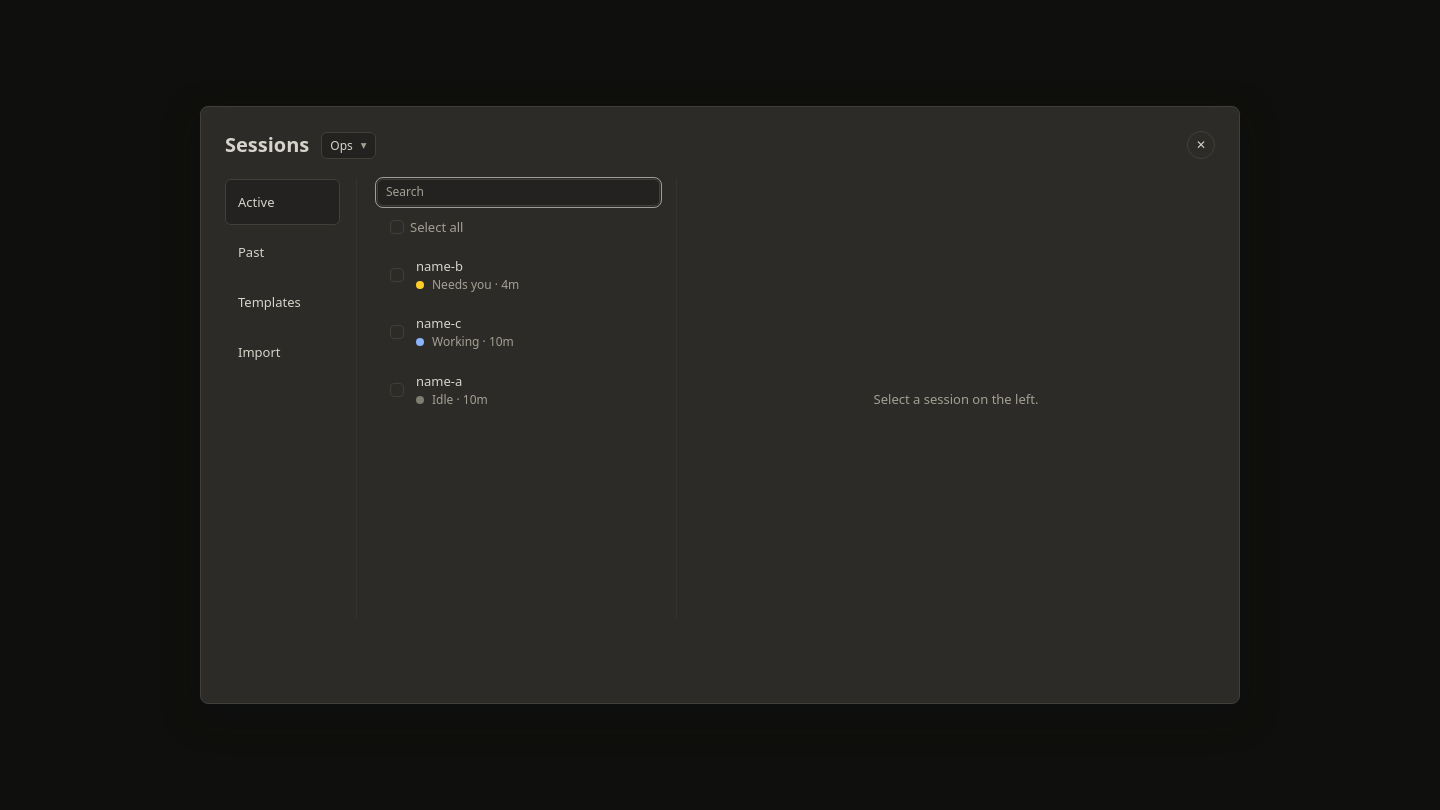
Sessions → Active — details › the row opens read-only details: Name, Folder, Workspace, Tags, Status, Launched
The image size is (1440, 810).
What coordinates should you click on to do the following:
click the button "name-b Needs you · 4m"
I would click on:
 (532, 275)
Its box is [404, 249, 659, 300].
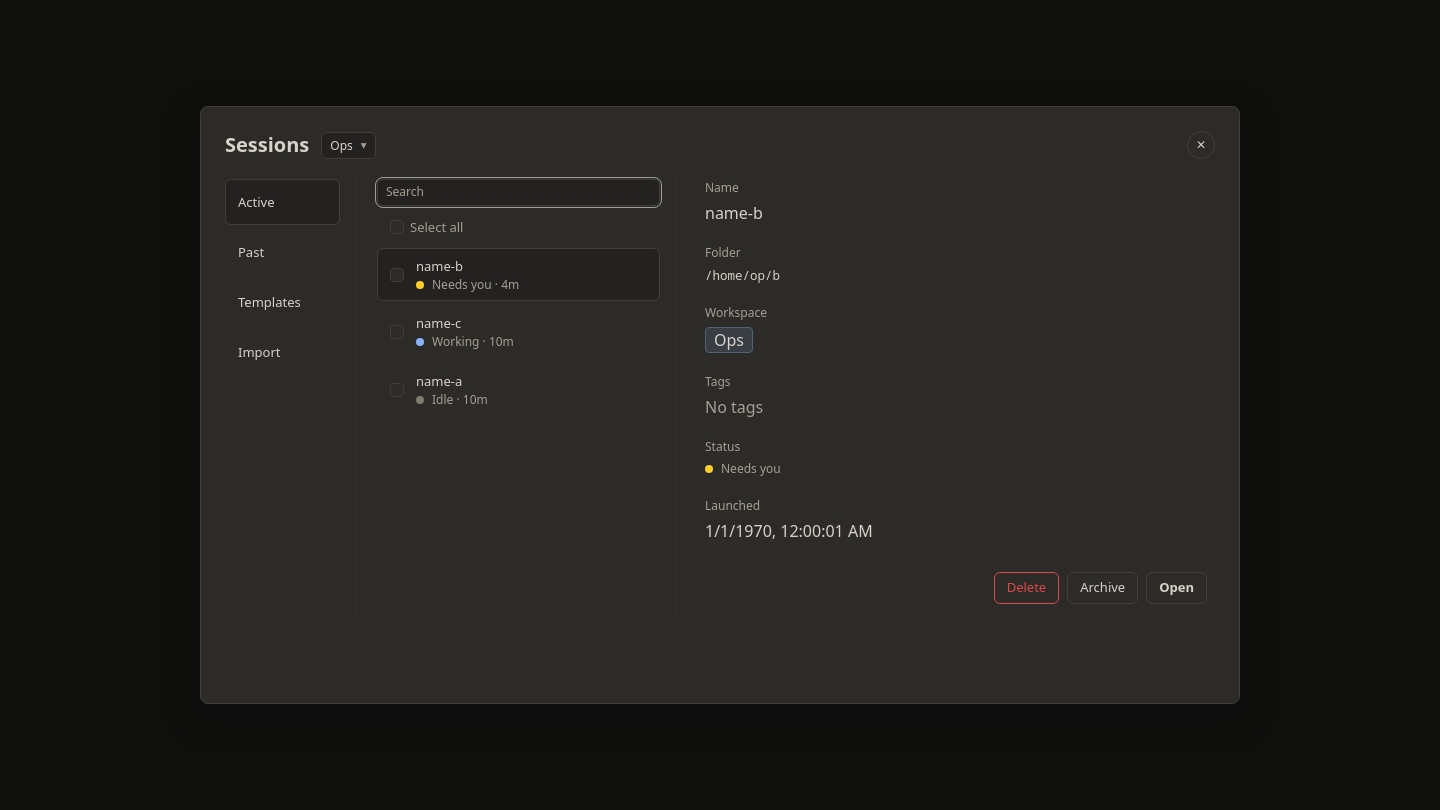
expect the text "/home/op/b" is shown: met, box [705, 267, 780, 284]
expect the text with test id "status-label" reads "Needs you": met, box [721, 460, 781, 477]
expect the text "1/1/1970, 12:00:01 AM" is shown: met, box [705, 520, 873, 542]
What coordinates should you click on to do the following:
click the button "name-c Working · 10m"
I would click on:
 (532, 332)
Its box is [404, 306, 659, 358].
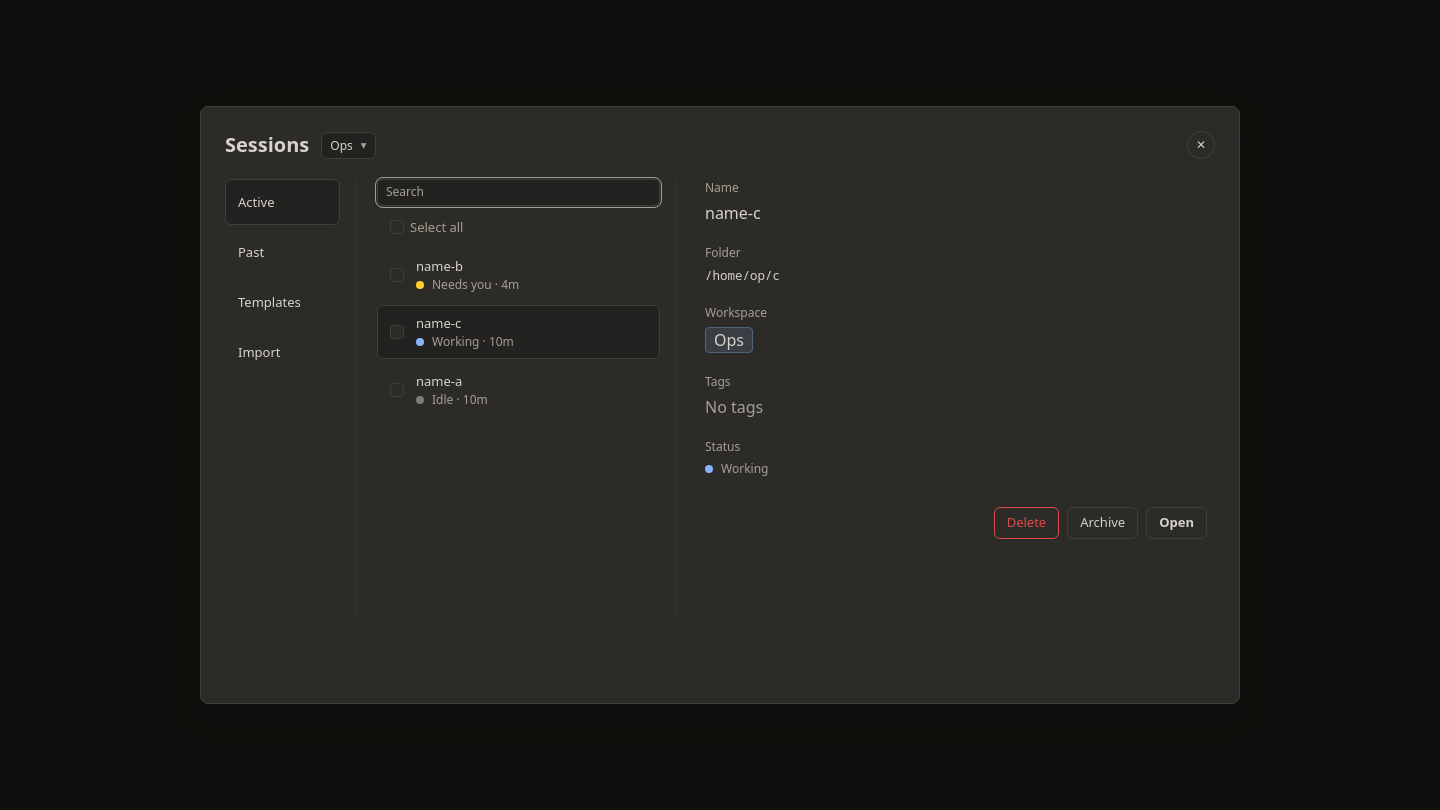
expect the text with test id "active-session-form-launched" is gone: met
